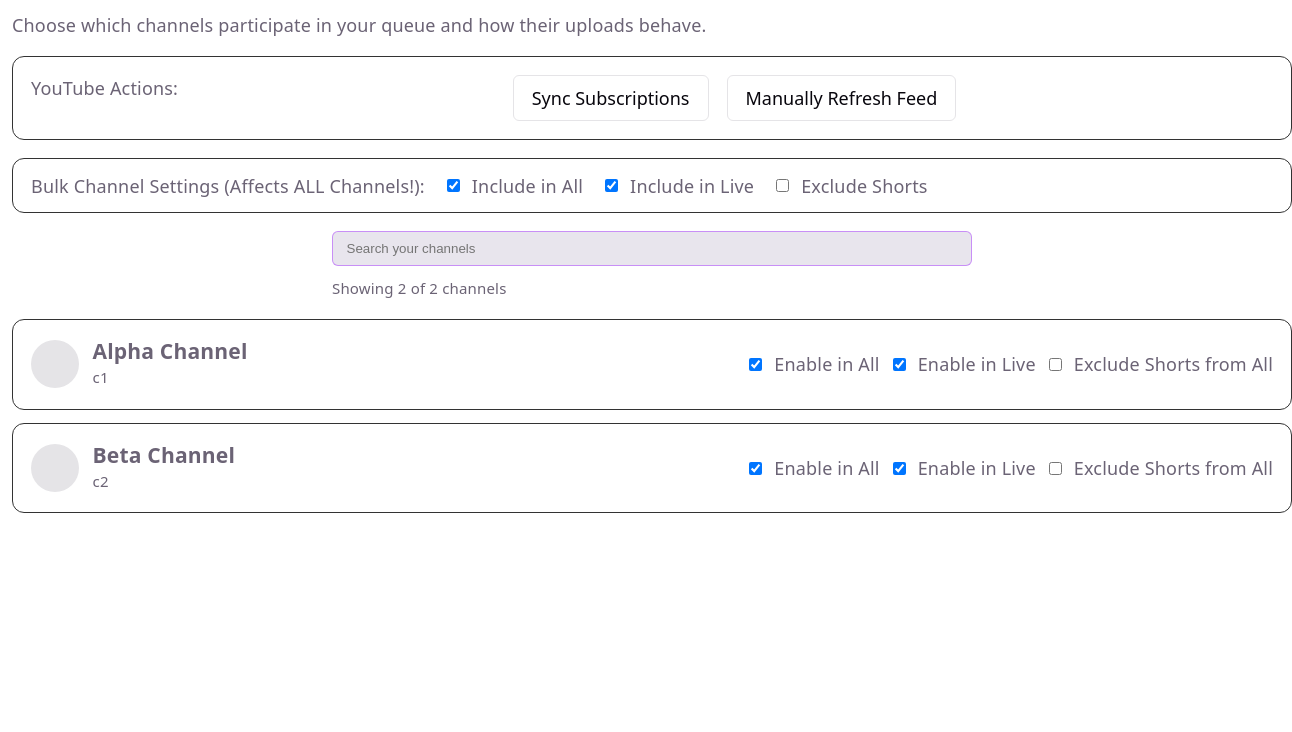
Test: ChannelsSettingsPage › restores only the failed row when another row was toggled during the save
The width and height of the screenshot is (1292, 732).
Expected: the heading "Alpha Channel" is shown, left=92, top=338, right=248, bottom=364
Click the checkbox labelled "Enable in All" in the row of "Alpha Channel" at x=756, y=364, box left=749, top=358, right=762, bottom=371
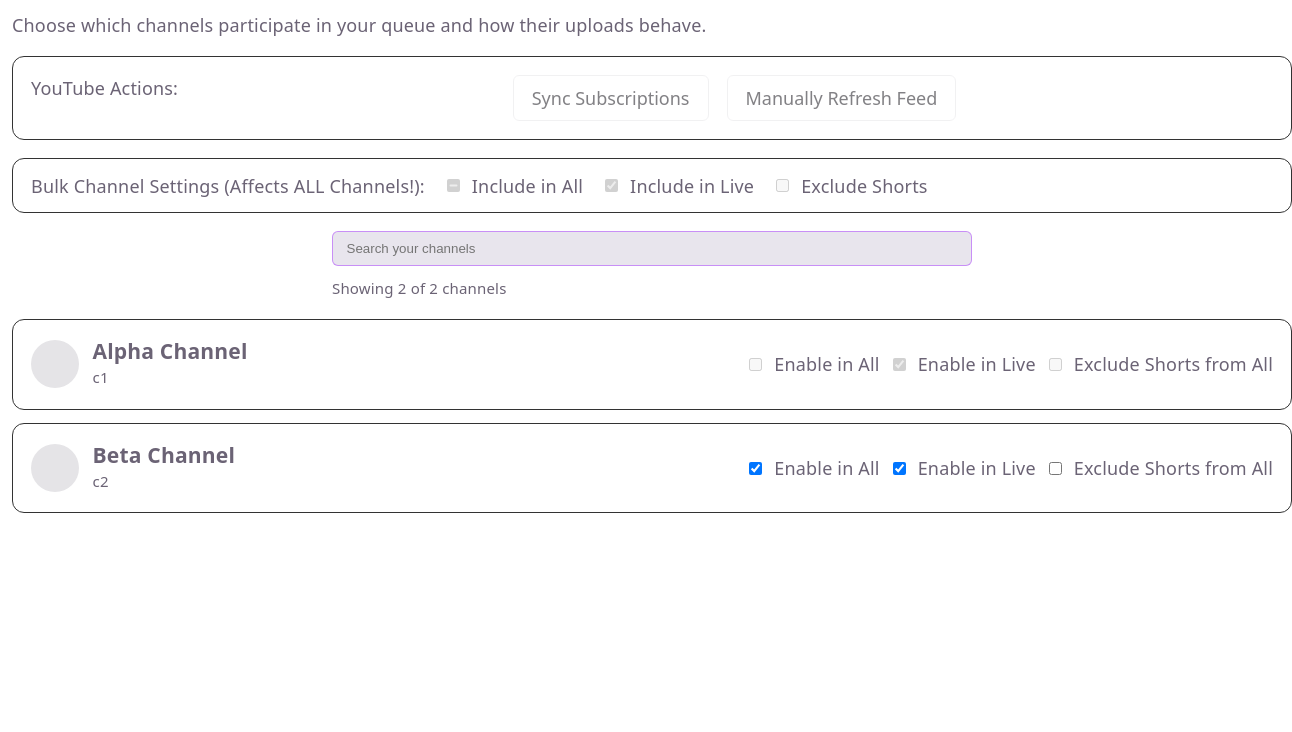
Click the checkbox labelled "Enable in All" in the row of "Beta Channel" at x=756, y=468, box left=749, top=462, right=762, bottom=475
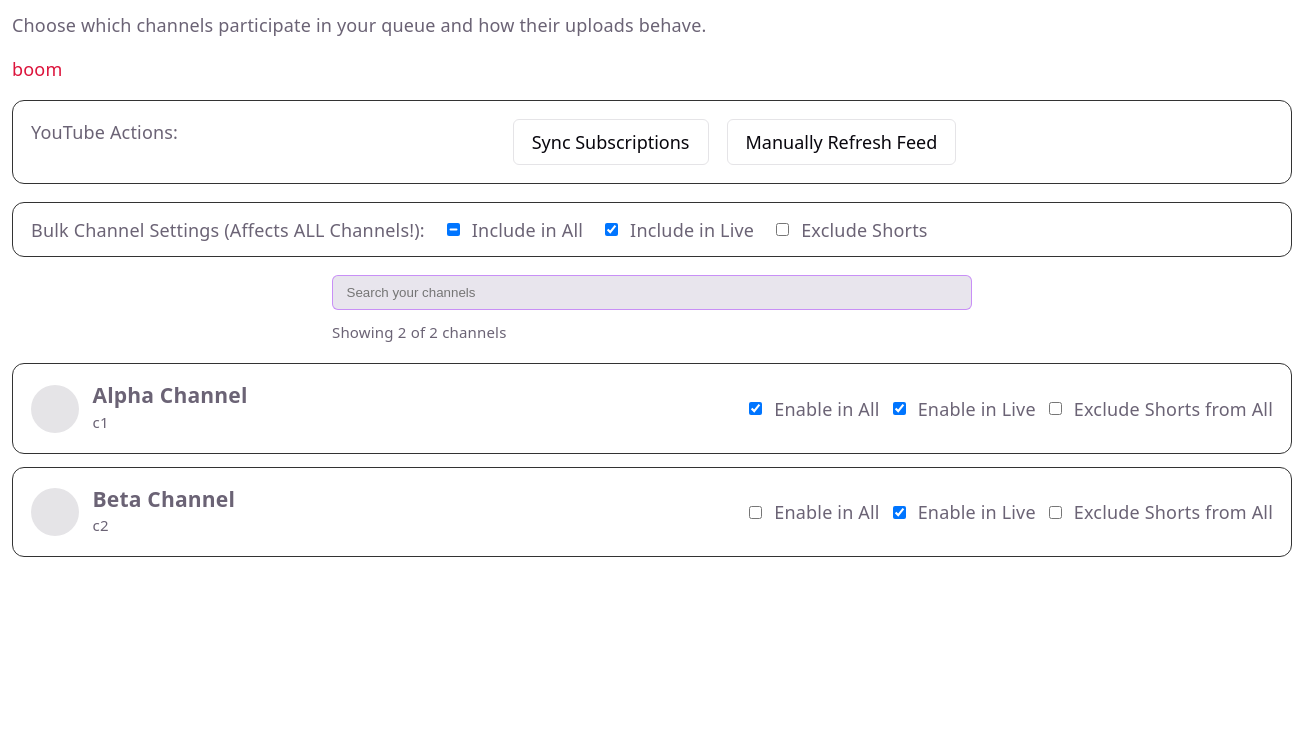
Expected: the checkbox labelled "Enable in All" in the row of "Alpha Channel" is checked, left=749, top=402, right=762, bottom=415
Expected: the checkbox labelled "Enable in All" in the row of "Beta Channel" is not checked, left=749, top=506, right=762, bottom=519
Expected: the text "boom" is shown, left=12, top=57, right=62, bottom=81
